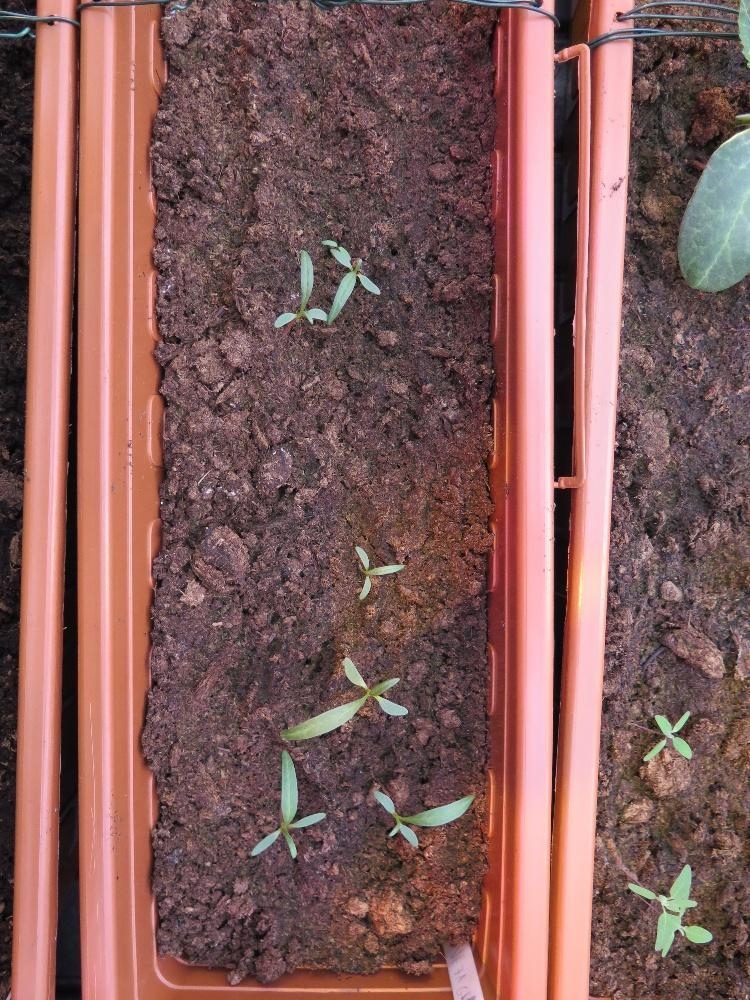weed: (277, 652, 408, 743), (249, 746, 326, 861), (371, 786, 474, 848), (353, 542, 405, 600), (641, 707, 691, 762)
